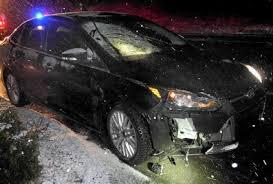Headlight-Damage: (152, 88, 223, 120)
front-bumper-dent: (148, 118, 230, 154)
